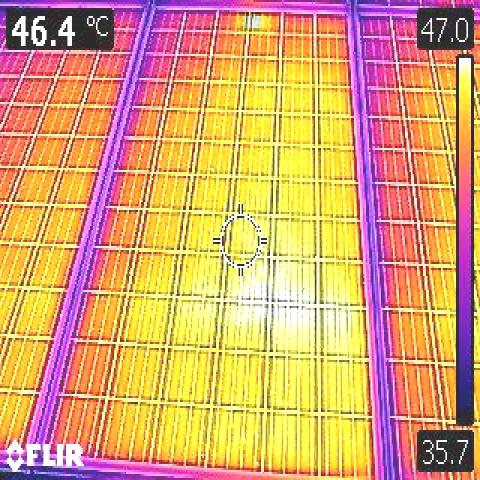fault: (240, 12, 262, 31)
